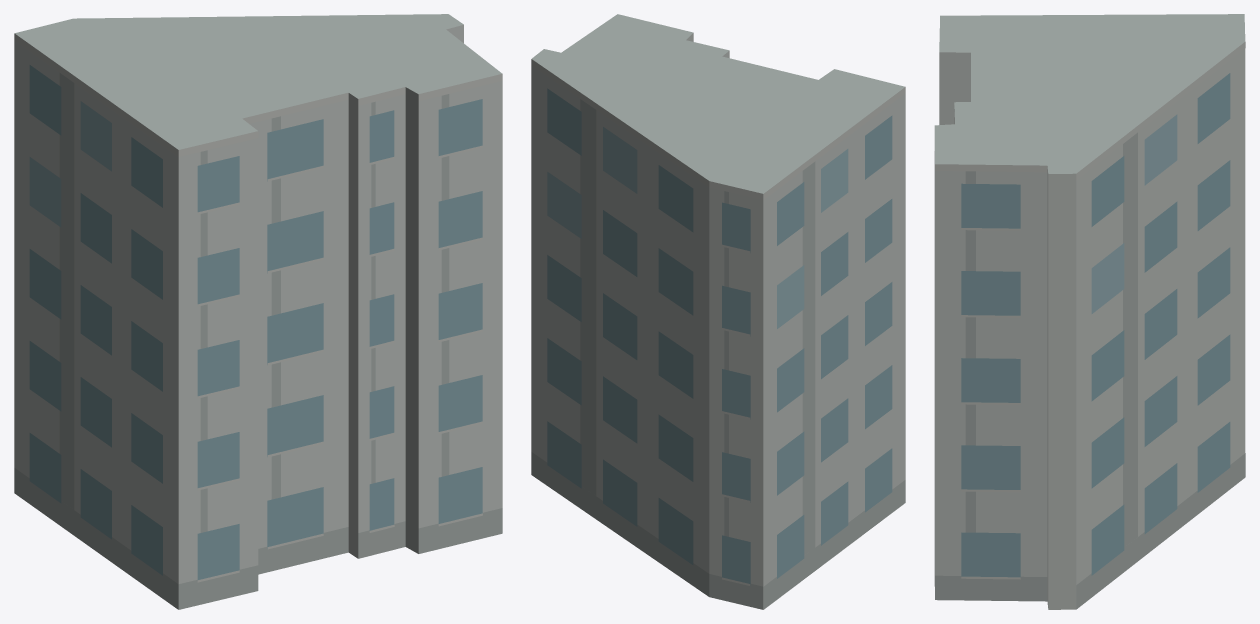
Rendered from survey-upis-32827411.glb.
The picture shows the model from 3 angles, left to right: view 1: azimuth 30°, elevation 25°; view 2: azimuth 150°, elevation 25°; view 3: azimuth 270°, elevation 25°; orthographic projection. The views are drawn at different scales.
Parts seen in each view (by area): view 1: survey-upis-32827411.tmp; view 2: survey-upis-32827411.tmp; view 3: survey-upis-32827411.tmp.
Boxes of the visible parts, left/top/right/bottom form: survey-upis-32827411.tmp: left=14, top=14, right=502, bottom=609; survey-upis-32827411.tmp: left=531, top=14, right=905, bottom=609; survey-upis-32827411.tmp: left=934, top=14, right=1245, bottom=609.
Bounding box in the file's own units: 12.37 × 15.7 × 10.16.
